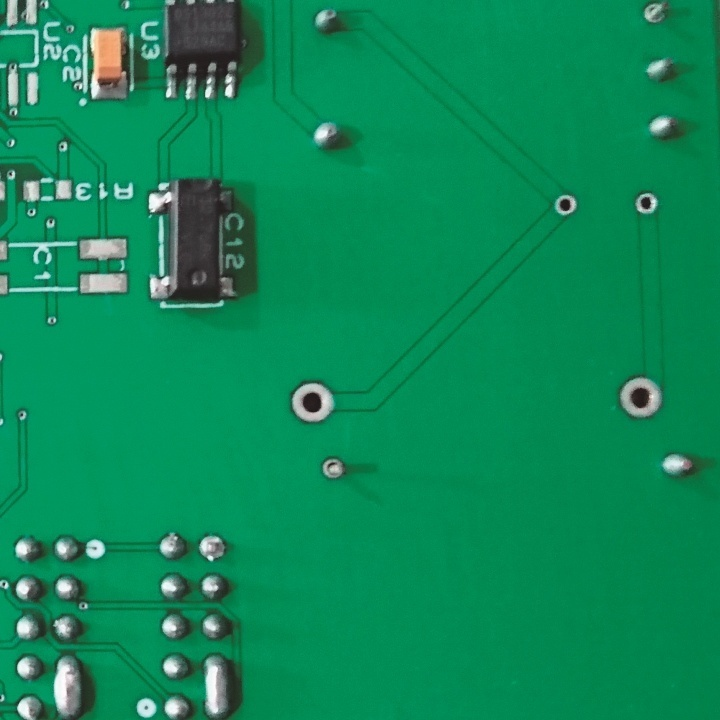F: (288, 378, 337, 429), (615, 373, 664, 423), (196, 530, 231, 568), (636, 1, 679, 29), (316, 452, 350, 483), (630, 191, 661, 220), (549, 195, 583, 220)
P: (49, 649, 93, 720), (199, 649, 236, 720)
